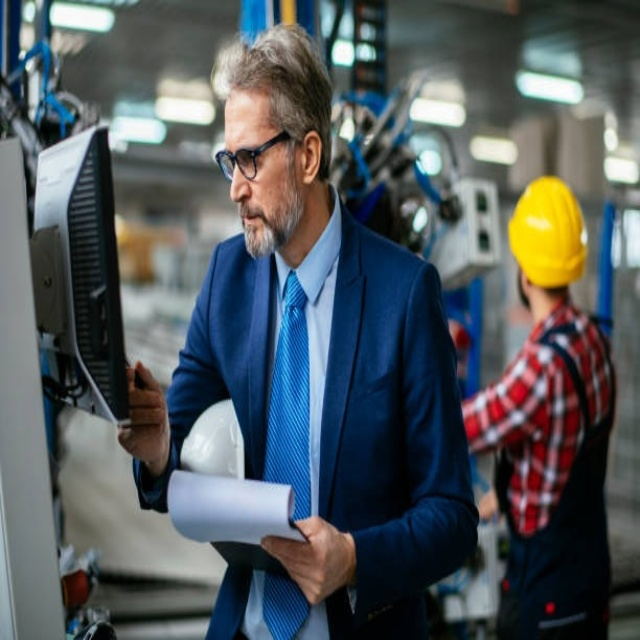Gafas: (215, 124, 294, 188)
Sin_guantes: (255, 507, 353, 604), (118, 359, 173, 472)
Sin_mascara: (235, 202, 273, 251)
